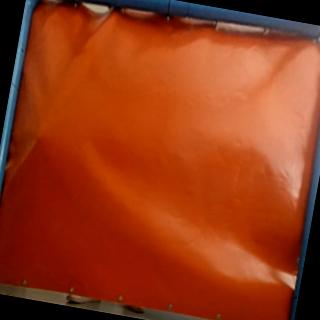Hit-hRxx: (31, 131, 49, 148)
